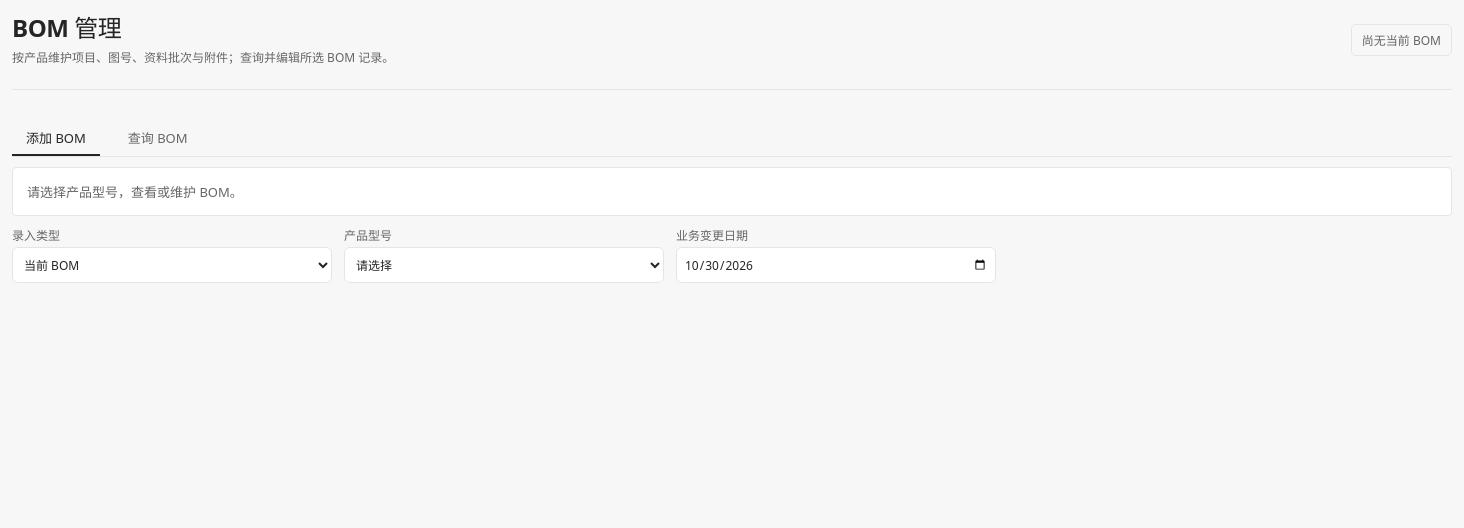
Test case: fails closed on a mismatched selected history response rather than falling back to create
Click the button "查询 BOM" at (158, 138), box [114, 120, 202, 156]
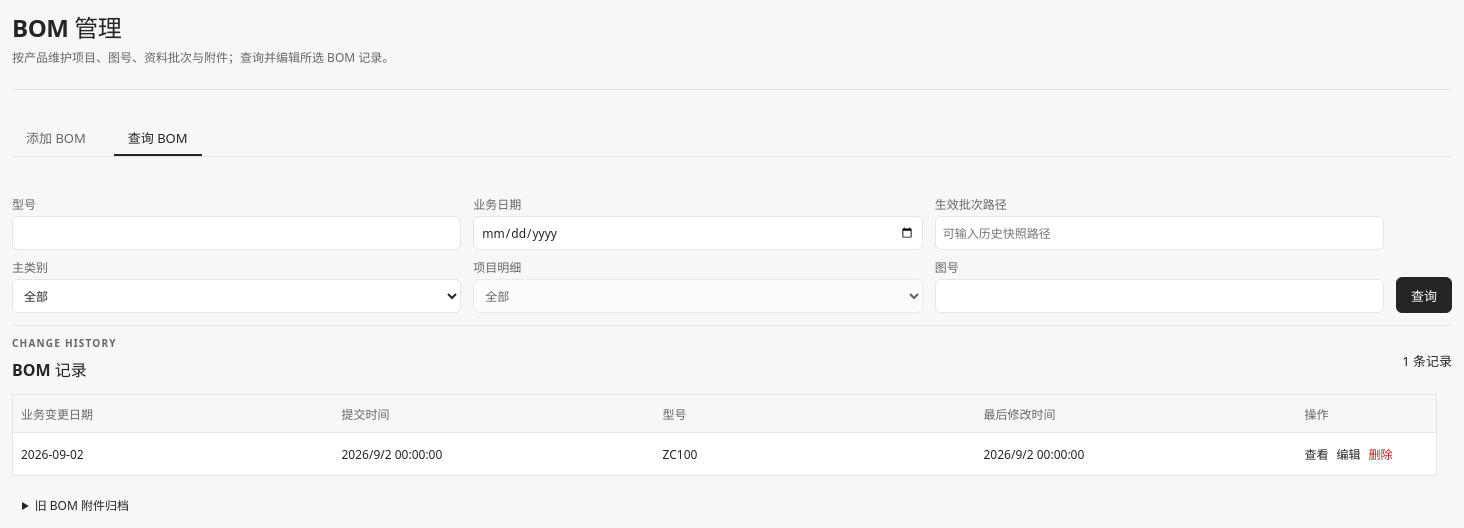
Click the button with aria-label "编辑 BOM 20" at (1348, 454), box [1336, 440, 1360, 468]
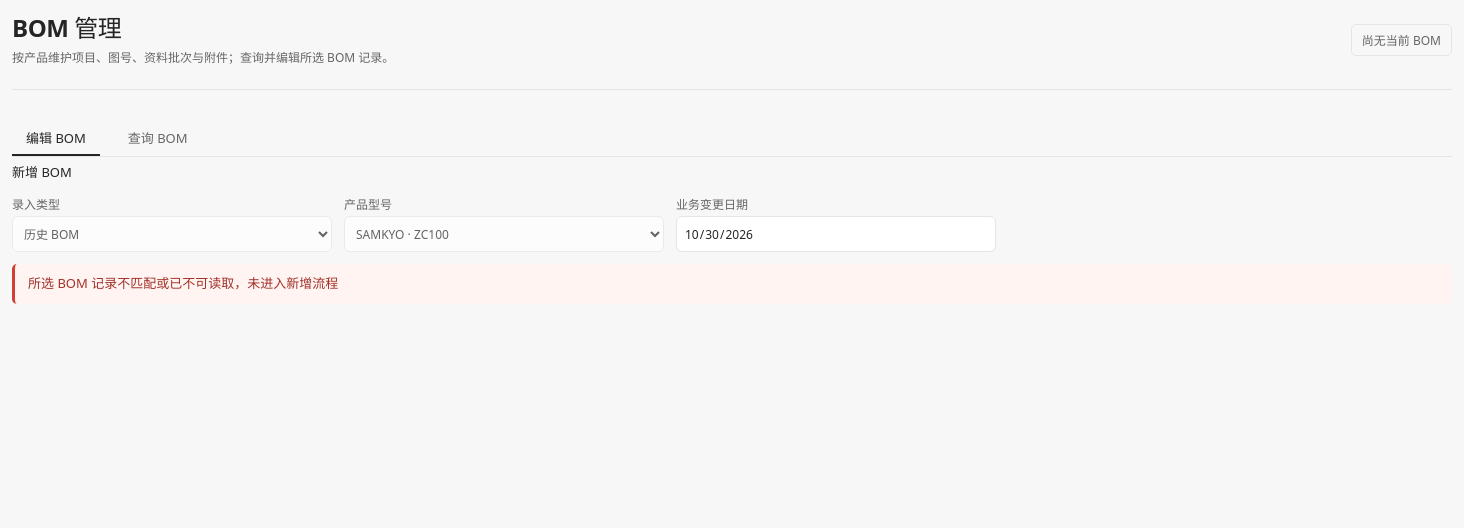
expect the message shows "所选 BOM 记录不匹配": met, box [28, 274, 338, 292]
